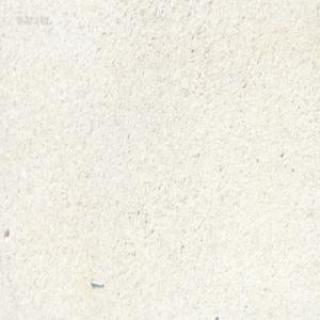Nailtrack_idkeyframe: (88, 276, 105, 287)
